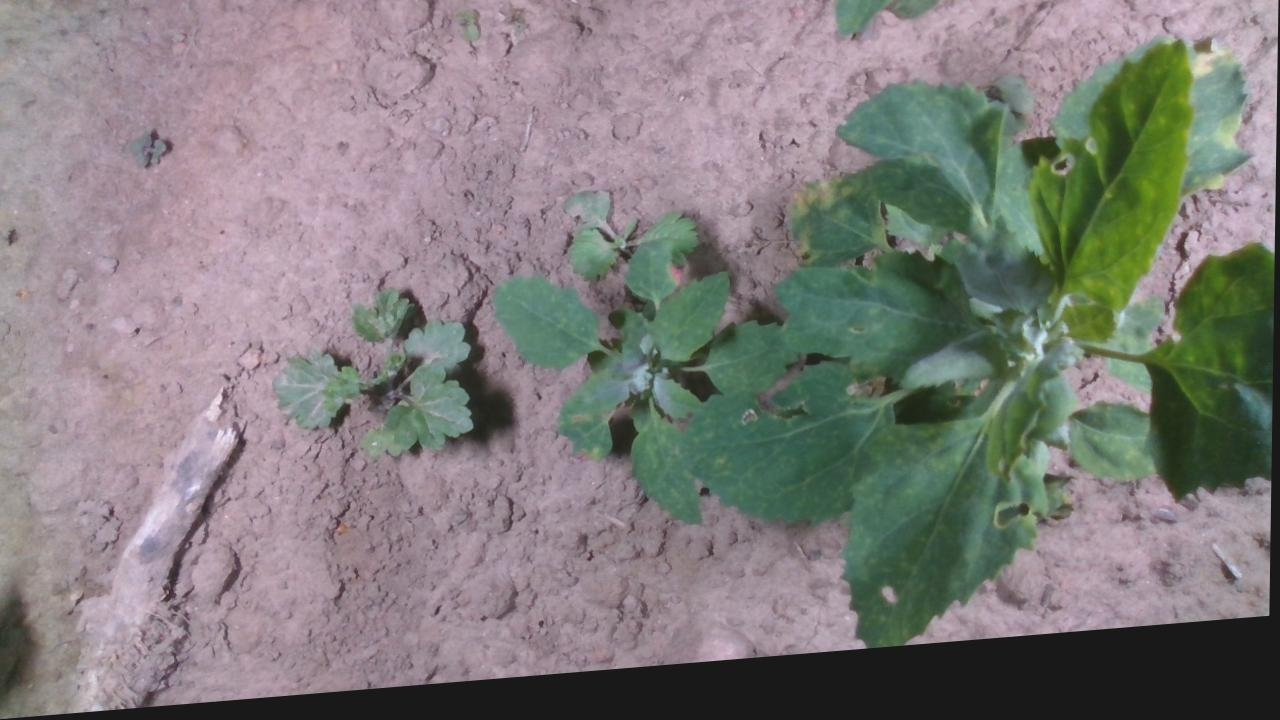weed: (125, 127, 171, 179), (454, 6, 483, 55)
